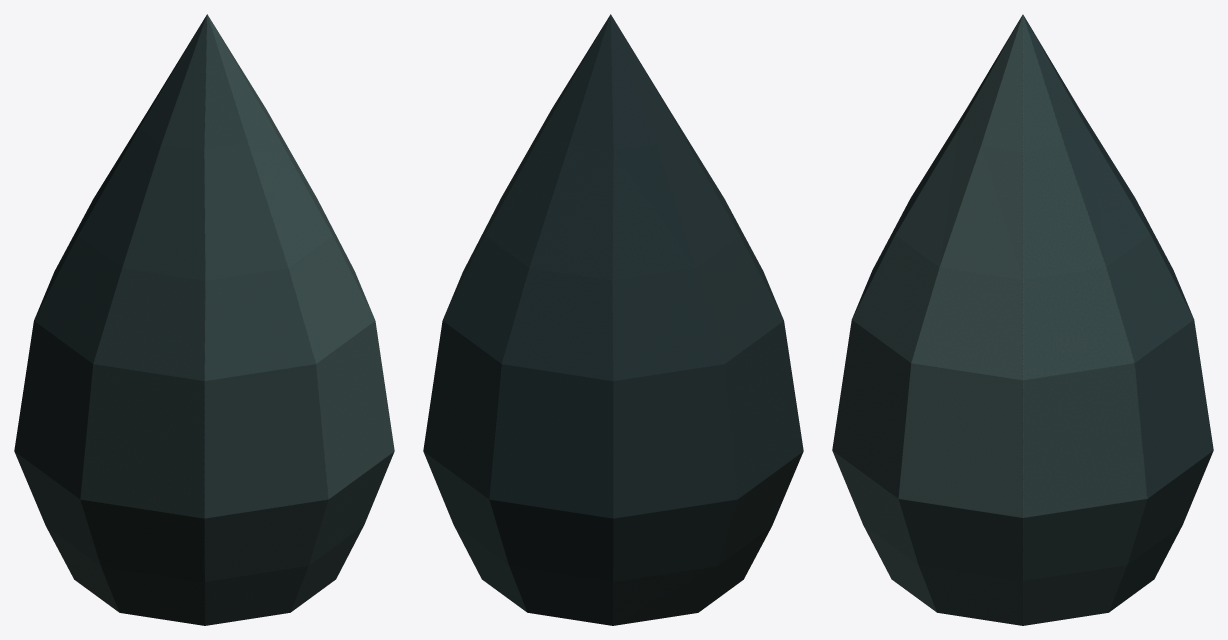
File: Cepha1.obj
3 renders of one model, left to right at view 1: azimuth 30°, elevation 25°; view 2: azimuth 150°, elevation 25°; view 3: azimuth 270°, elevation 25°, orthographic.
Visible parts, largest first — view 1: Cepha1; view 2: Cepha1; view 3: Cepha1.
Part boxes in pixels (left/top/right/bottom): Cepha1: left=14, top=14, right=394, bottom=625; Cepha1: left=423, top=14, right=803, bottom=625; Cepha1: left=832, top=14, right=1213, bottom=625.
Size of the model in its own units: 4.59 by 7.86 by 4.66.
1 material, 1 textured.
